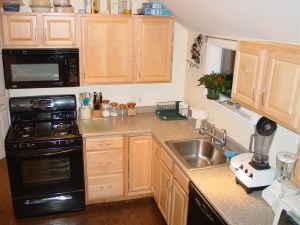Electrodomestico: (8, 102, 83, 212)
Lavaplatos: (165, 127, 239, 176)
